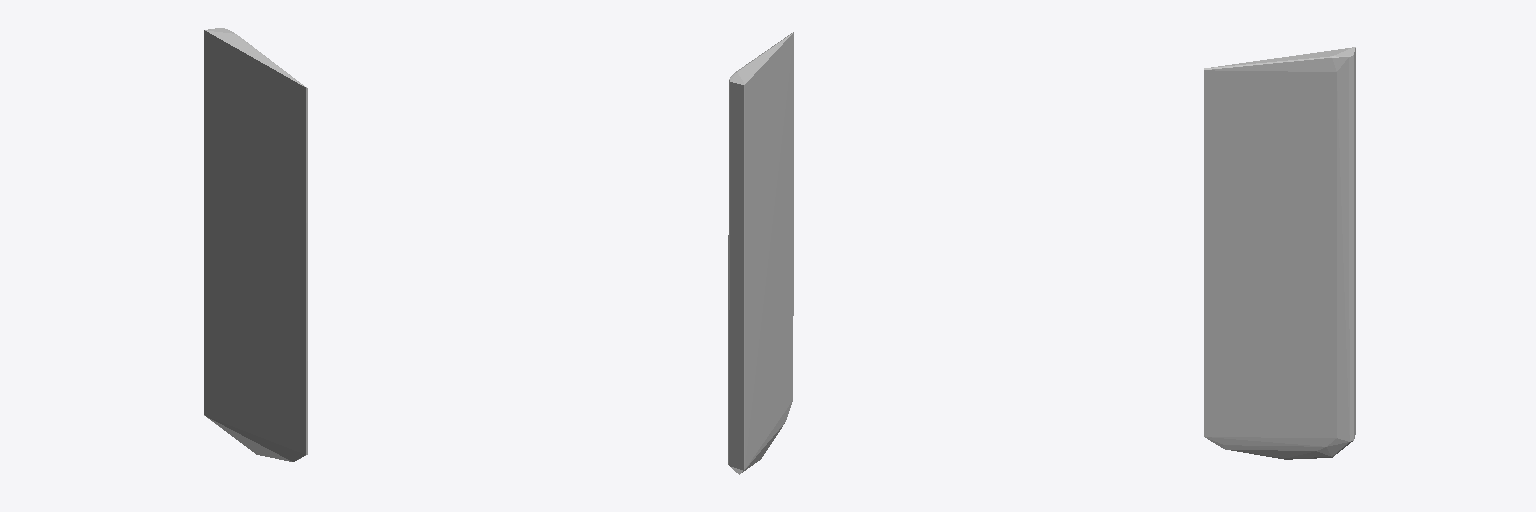
File: ToteA.L003.obj
3 renders of one model, left to right at view 1: azimuth 30°, elevation 25°; view 2: azimuth 150°, elevation 25°; view 3: azimuth 270°, elevation 25°, orthographic.
Size of the model in its own units: 0.0342 by 0.4687 by 0.1603.